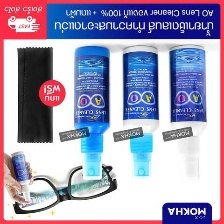cleaning_solution: (166, 43, 208, 183), (70, 44, 112, 180), (120, 44, 162, 179), (9, 149, 33, 203)
